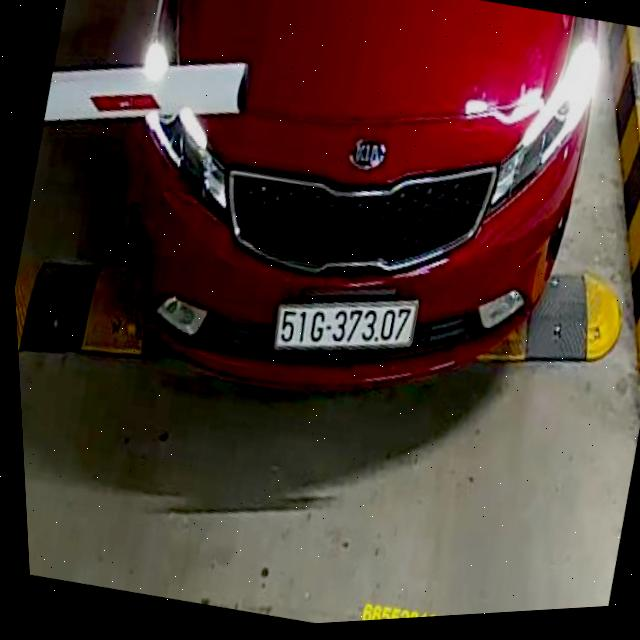car: (61, 0, 633, 455)
plate: (268, 273, 418, 373)
